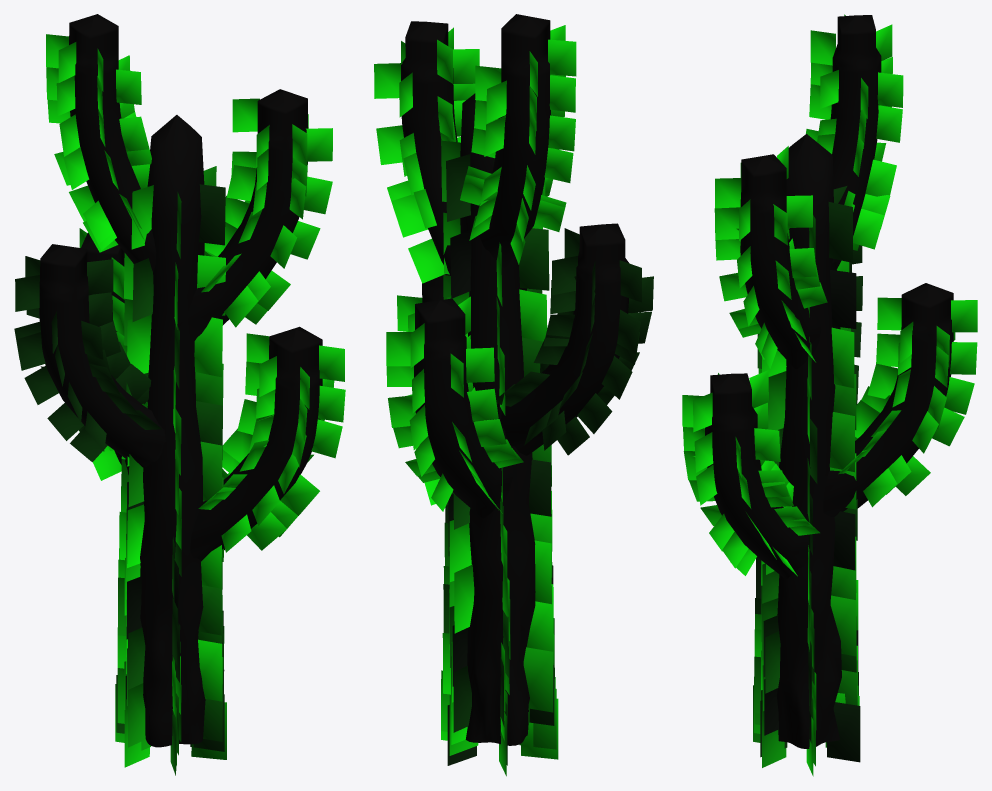
Rendered from Cactus_1_10.fbx.
3 views of the same model, side by side, from view 1: azimuth 30°, elevation 25°; view 2: azimuth 150°, elevation 25°; view 3: azimuth 270°, elevation 25° (orthographic). The views are drawn at different scales.
Parts seen in each view (by area): view 1: Cactus_1_10; view 2: Cactus_1_10; view 3: Cactus_1_10.
Boxes of the visible parts, x1,y1,x2,y2 form: Cactus_1_10: (14, 14, 345, 775); Cactus_1_10: (374, 14, 653, 776); Cactus_1_10: (682, 14, 977, 776).
Bounding box in the file's own units: 175 × 442 × 166.
